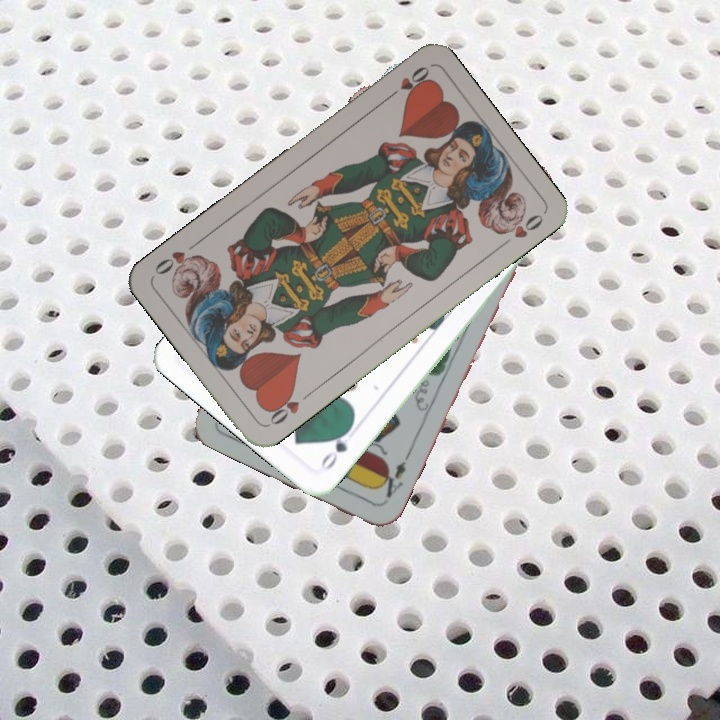EA: (374, 449, 413, 500)
GO: (317, 422, 355, 473)
HO: (381, 62, 433, 104), (263, 387, 315, 428)
